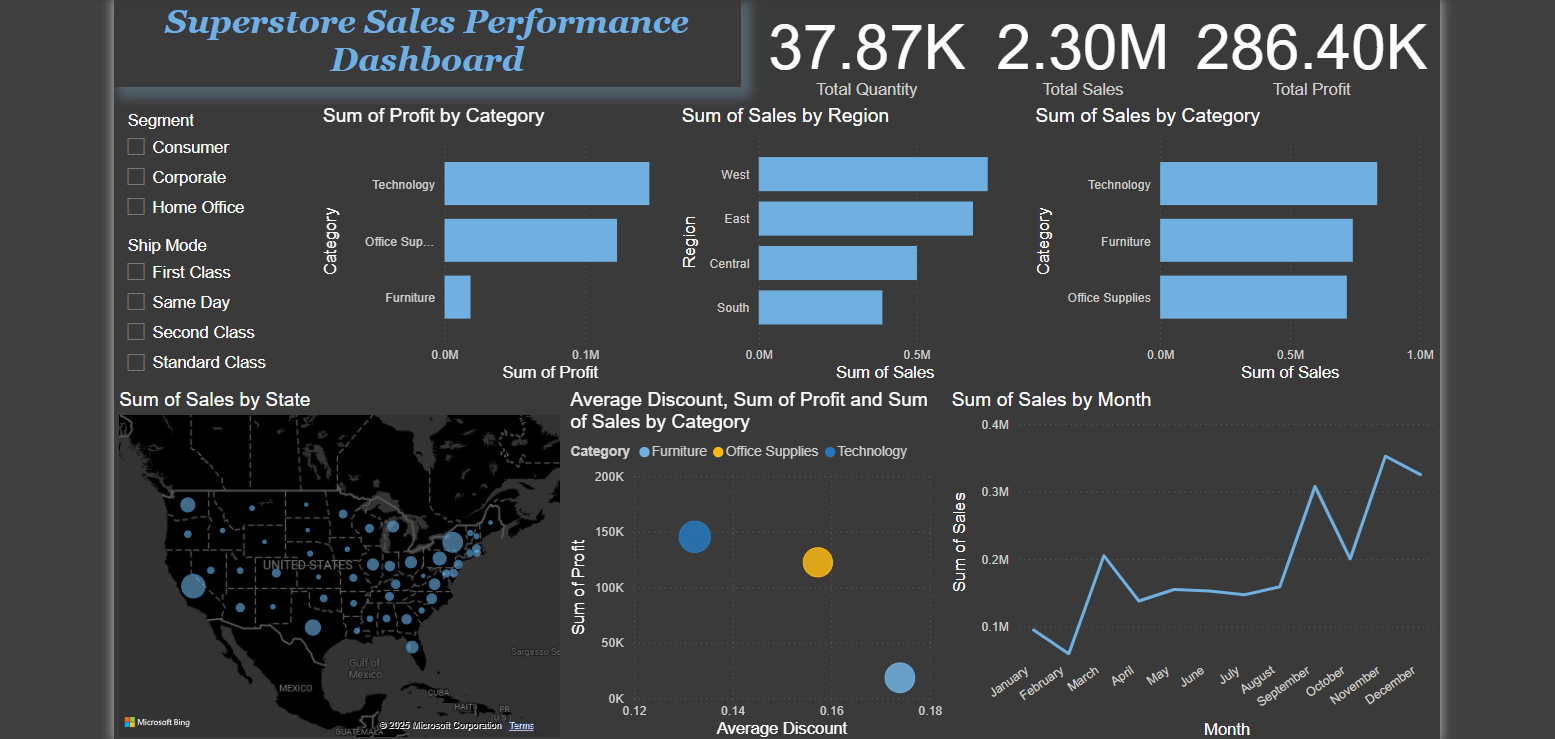

The page's visual inventory and layout, read from the dashboard file:
{"tool":"powerbi","page":{"name":"Dashboard","canvas":[1280,720],"ordinal":0},"visuals":[{"type":"map","fields":{"Size":["Sum(Sample - Superstore.Sales)"],"Category":["DimLocation.State"]},"box":[0,390.9,400.5,328.2],"z":0},{"type":"clusteredBarChart","fields":{"Y":["FactSales.Total Sales"],"Category":["DimLocation.Region","DimLocation.State"]},"box":[542.6,104.3,342.3,272.7],"z":1000},{"type":"card","fields":{"Values":["FactSales.Total Profit"]},"box":[1031,0,249,104.3],"z":2000},{"type":"card","fields":{"Values":["Sum(FactSales.Quantity)"]},"box":[623.3,0,205.9,104.3],"z":3000},{"type":"card","fields":{"Values":["FactSales.Total Sales"]},"box":[829.2,0,212.9,104.3],"z":4000},{"type":"lineChart","fields":{"Y":["FactSales.Total Sales"],"Category":["Calendar.Date.Variation.Date Hierarchy.Year","Calendar.Date.Variation.Date Hierarchy.Quarter","Calendar.Date.Variation.Date Hierarchy.Month"]},"box":[803.5,390.9,476.5,330.6],"z":5000},{"type":"clusteredBarChart","fields":{"Y":["FactSales.Total Sales"],"Category":["DimProduct.Category","DimProduct.Sub-Category","DimProduct.Product Name"]},"box":[884.9,104.3,395.1,272.7],"z":6000},{"type":"scatterChart","fields":{"Y":["Sum(Sample - Superstore.Profit)"],"Size":["Sum(Sample - Superstore.Sales)"],"X":["FactSales.Discount"],"Series":["DimProduct.Category"]},"box":[410.2,390.9,393.3,328.2],"z":7000},{"type":"textbox","box":[0,0,542.9,95.3],"z":8000},{"type":"slicer","fields":{"Values":["DimCustomer.Segment"]},"box":[0,103.8,190.6,120.6],"z":9000},{"type":"clusteredBarChart","fields":{"Y":["FactSales.Total Profit"],"Category":["DimProduct.Category","DimProduct.Sub-Category","DimProduct.Product Name"]},"box":[196.2,104.3,346.4,272.7],"z":10000},{"type":"slicer","fields":{"Values":["Sample - Superstore.Ship Mode"]},"box":[0,225.6,190.6,150.8],"z":11000}]}

Visuals, with their boxes on the page's 1280x720 design canvas (x1, y1, x2, y2). These are canvas units, not pixel positions in the 1555x739 screenshot, which may show the page scaled, cropped or inside an application window:
map - Sum(Sample - Superstore.Sales) x DimLocation.State: [0,391,400,719]
clusteredBarChart - FactSales.Total Sales x DimLocation.Region: [543,104,885,377]
card - FactSales.Total Profit: [1031,0,1280,104]
card - Sum(FactSales.Quantity): [623,0,829,104]
card - FactSales.Total Sales: [829,0,1042,104]
lineChart - FactSales.Total Sales x Calendar.Date.Variation.Date Hierarchy.Year: [804,391,1280,722]
clusteredBarChart - FactSales.Total Sales x DimProduct.Category: [885,104,1280,377]
scatterChart - Sum(Sample - Superstore.Profit) x Sum(Sample - Superstore.Sales): [410,391,804,719]
textbox: [0,0,543,95]
slicer - DimCustomer.Segment: [0,104,191,224]
clusteredBarChart - FactSales.Total Profit x DimProduct.Category: [196,104,543,377]
slicer - Sample - Superstore.Ship Mode: [0,226,191,376]
